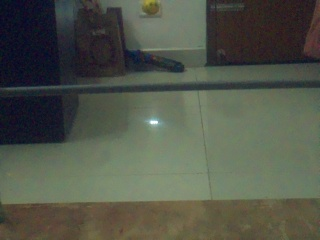ball: (142, 0, 159, 15)
